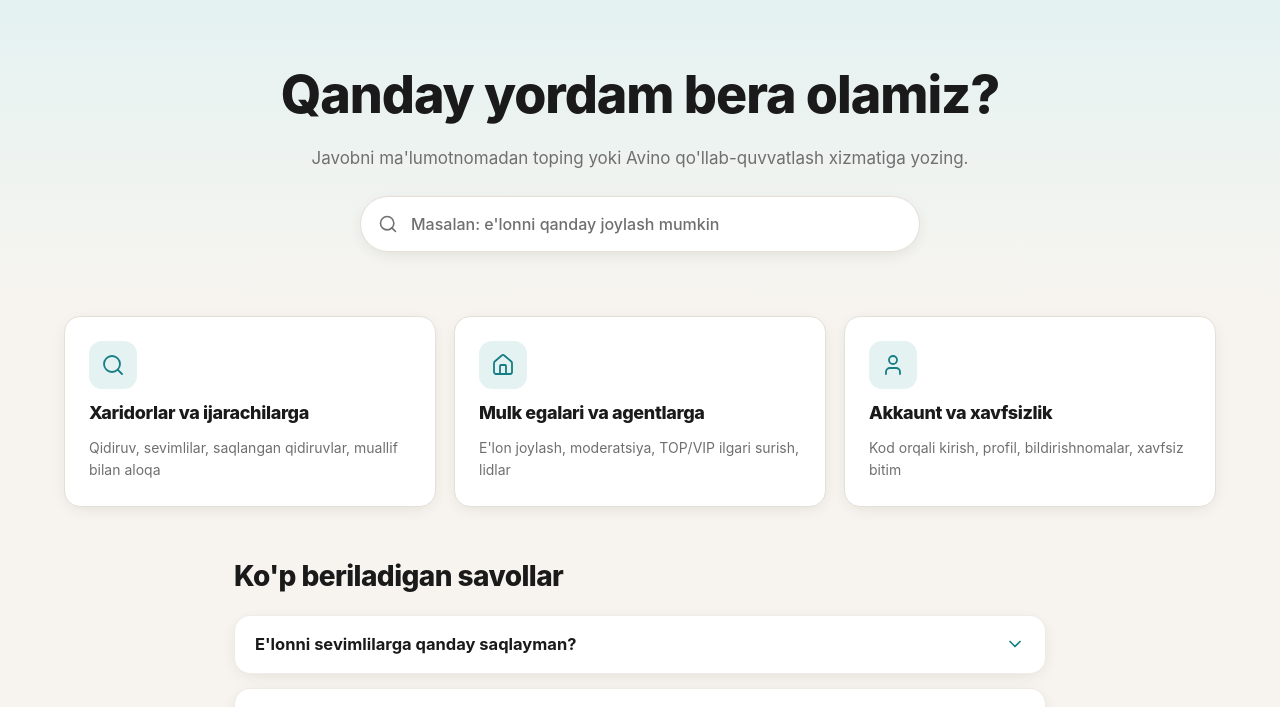
it: Faq search (uz) › бессмысленный запрос показывает «ничего не найдено»
Type "zzzqqq" into the field with placeholder "Masalan: e'lonni qanday joylash mumkin".
click(640, 224); type("zzzqqq")  # box [360,196,920,252]
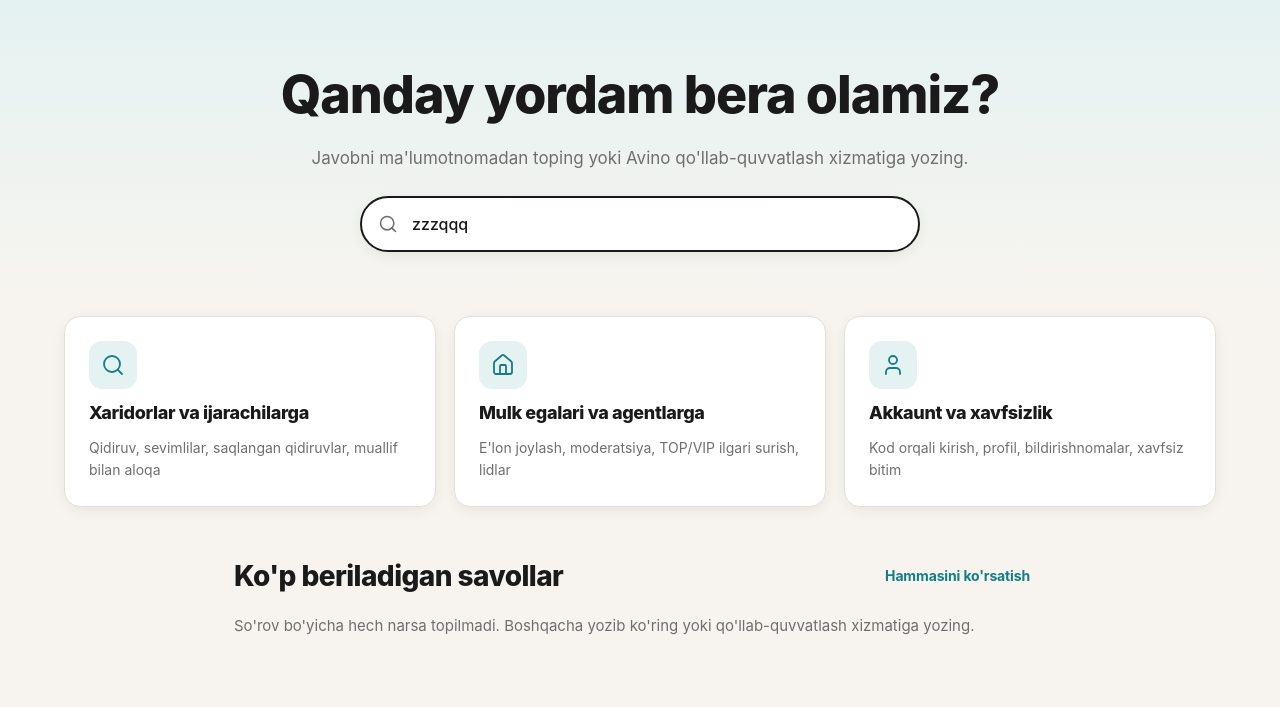
Expected: the text "hech narsa topilmadi" is shown, [234,616,974,635]
